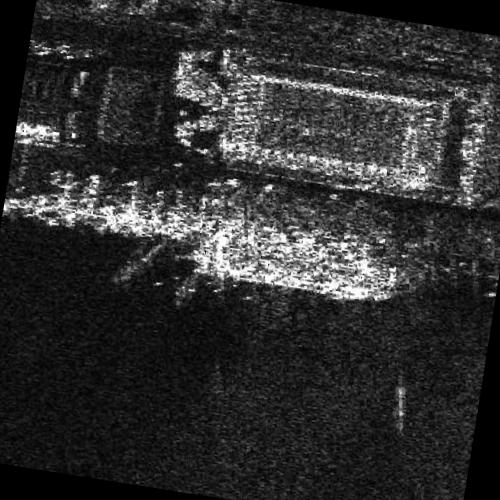ship: (190, 235, 413, 306)
